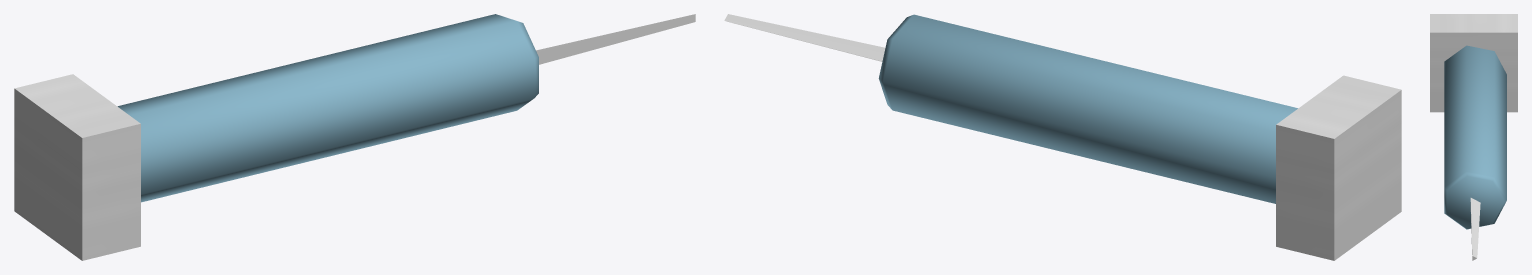
The model's file is drug_syringe.obj.
3 views of the same model, side by side, from view 1: azimuth 30°, elevation 25°; view 2: azimuth 150°, elevation 25°; view 3: azimuth 270°, elevation 25° (orthographic). The views are drawn at different scales.
Parts seen in each view (by area): view 1: syringe_barrel, part_040_gun_white, part_032_gun_light; view 2: syringe_barrel, part_040_gun_white, part_032_gun_light; view 3: syringe_barrel, part_040_gun_white, part_032_gun_light.
Part boxes in pixels (bbox=[...]): syringe_barrel: bbox=[117, 14, 538, 202]; part_040_gun_white: bbox=[14, 74, 140, 260]; part_032_gun_light: bbox=[536, 14, 695, 64]; syringe_barrel: bbox=[878, 14, 1297, 203]; part_040_gun_white: bbox=[1276, 75, 1401, 260]; part_032_gun_light: bbox=[724, 14, 885, 61]; syringe_barrel: bbox=[1444, 45, 1506, 229]; part_040_gun_white: bbox=[1430, 14, 1517, 112]; part_032_gun_light: bbox=[1470, 198, 1480, 260].
Size of the model in its own units: 0.44 by 0.08 by 0.08.
